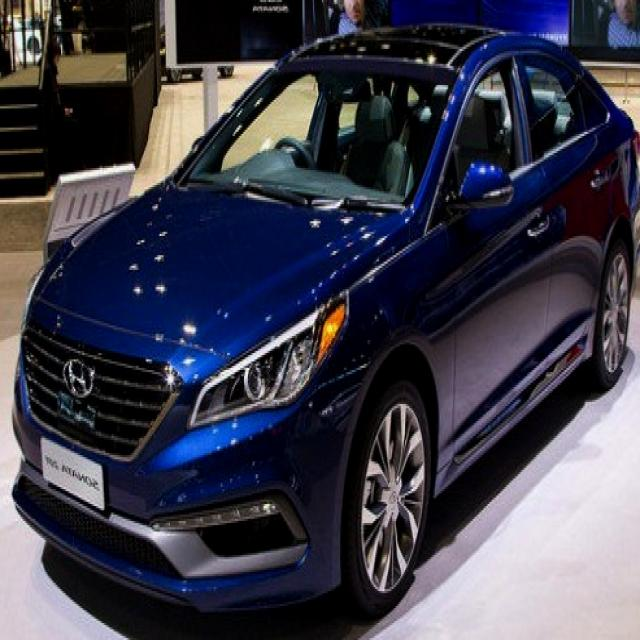blue: (14, 19, 640, 625)
